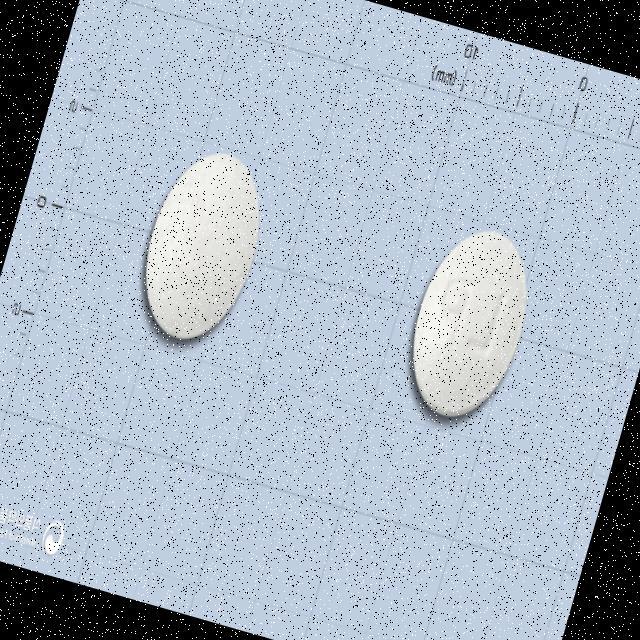Nofaxin Tab: (124, 138, 280, 356), (392, 215, 545, 430)
